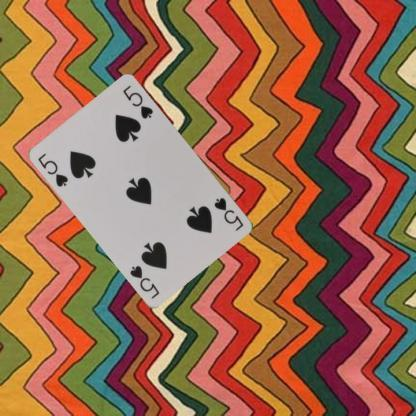5s: (35, 150, 70, 188), (212, 194, 245, 232)
